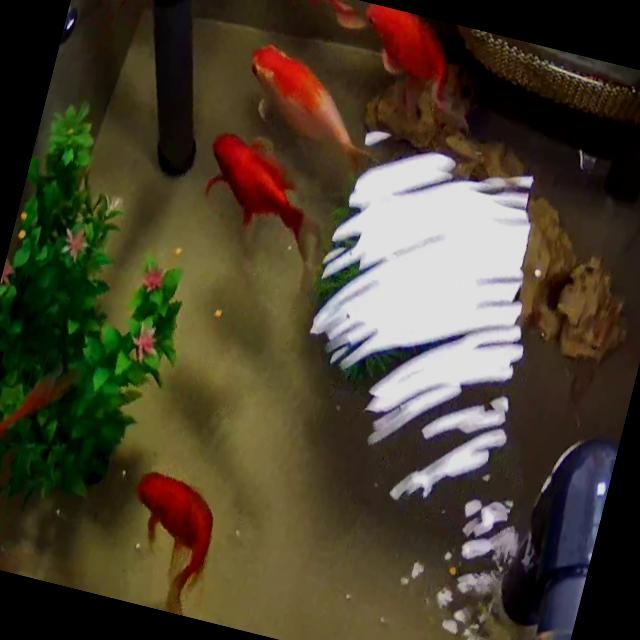fish: (230, 38, 390, 180), (189, 128, 342, 271), (108, 466, 225, 618), (0, 367, 75, 577), (360, 4, 462, 92), (0, 438, 59, 577), (241, 0, 362, 25)
